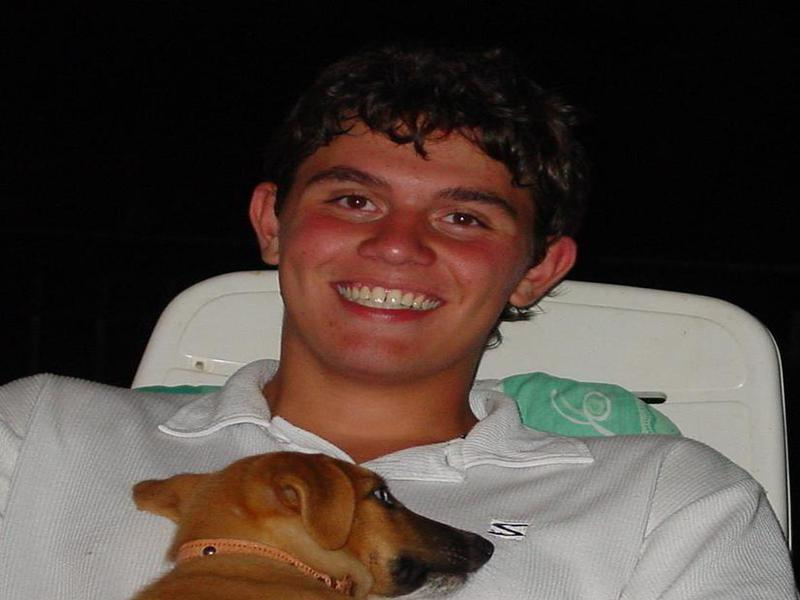person: (1, 49, 800, 600)
